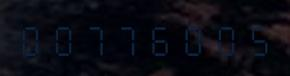five: (241, 20, 272, 56)
seven: (81, 20, 112, 56), (113, 20, 144, 56)
six: (145, 20, 176, 56)
zero: (17, 20, 48, 56), (49, 20, 80, 56), (177, 20, 208, 56), (209, 20, 240, 56)
